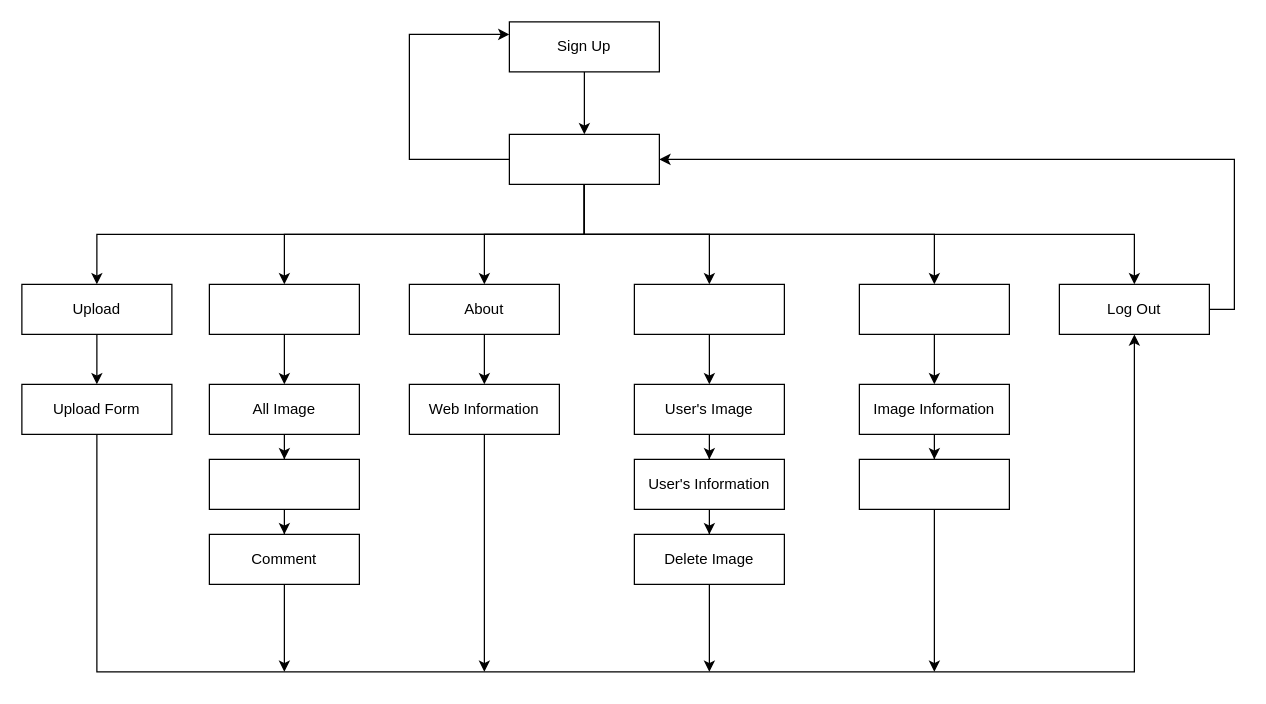
Image size: 1266x704. Some labels were removed from this diagram. The centre of each missing label's shape, as x and y in pixels:
Donwload Form: [933,483]
Download: [933,308]
Home: [283,308]
Like: [283,483]
Profile: [708,308]
Sign In: [583,158]
